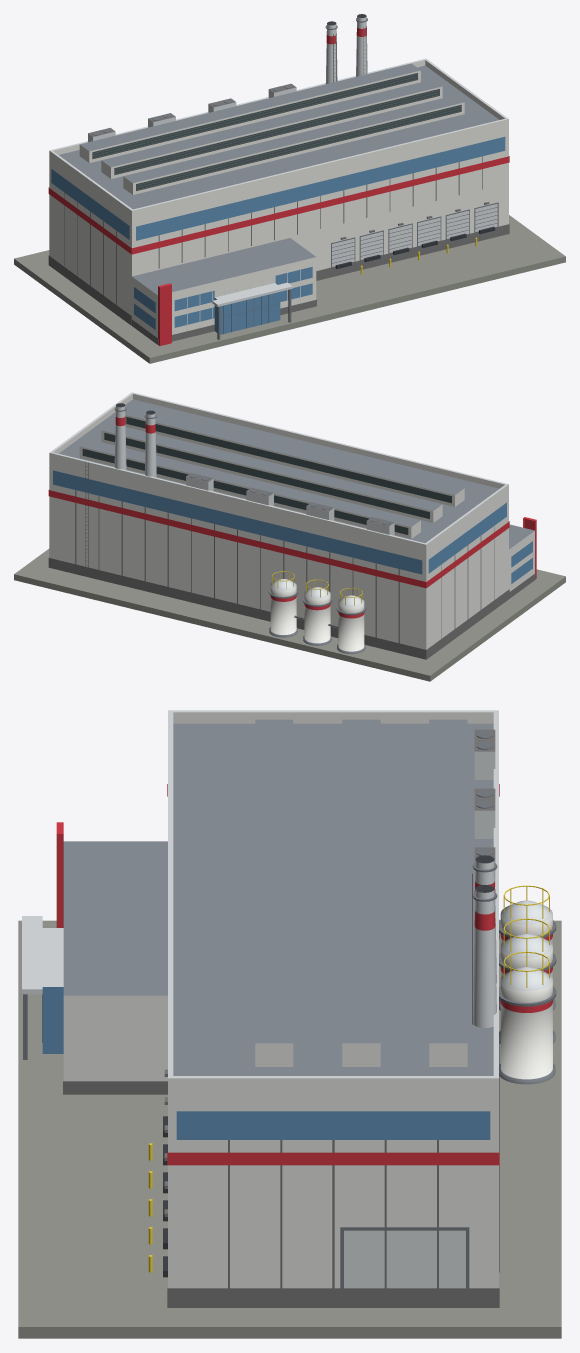
File: mashup-main-top-prebuilt_close.fbx
3 views of the same model, one above another, from view 1: azimuth 30°, elevation 25°; view 2: azimuth 150°, elevation 25°; view 3: azimuth 270°, elevation 25° (orthographic). The views are drawn at different scales.
Visible parts, largest first — view 1: a1029/0/mashup-main-top-prebuilt_close; view 2: a1029/0/mashup-main-top-prebuilt_close; view 3: a1029/0/mashup-main-top-prebuilt_close.
Part boxes in pixels (x1,y1,x2,y2): a1029/0/mashup-main-top-prebuilt_close: (14, 14, 565, 363); a1029/0/mashup-main-top-prebuilt_close: (14, 392, 565, 681); a1029/0/mashup-main-top-prebuilt_close: (18, 710, 561, 1338).
Size of the model in its own units: 55.2 by 23.1 by 31.2.
